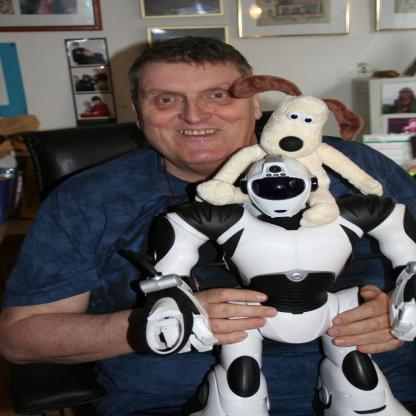Helmet: (236, 159, 324, 223)
